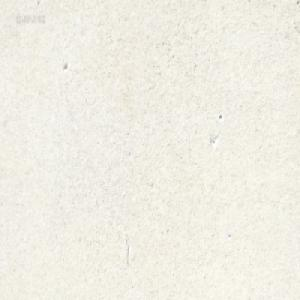Wrench: (130, 0, 136, 4)
